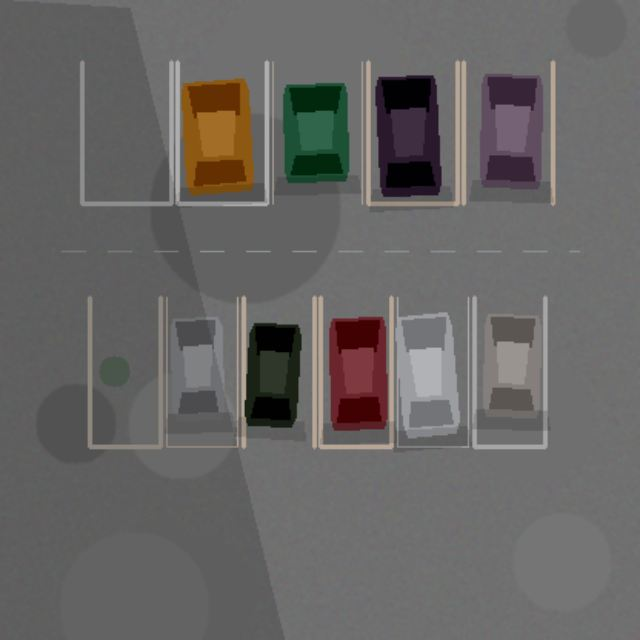space-empty: (82, 62, 171, 203), (89, 297, 160, 446)
space-occupied: (272, 62, 362, 203), (177, 62, 266, 203), (368, 62, 457, 203), (463, 62, 552, 203), (166, 297, 237, 446), (243, 297, 314, 446), (320, 297, 391, 446), (397, 297, 468, 446), (474, 297, 545, 446)
